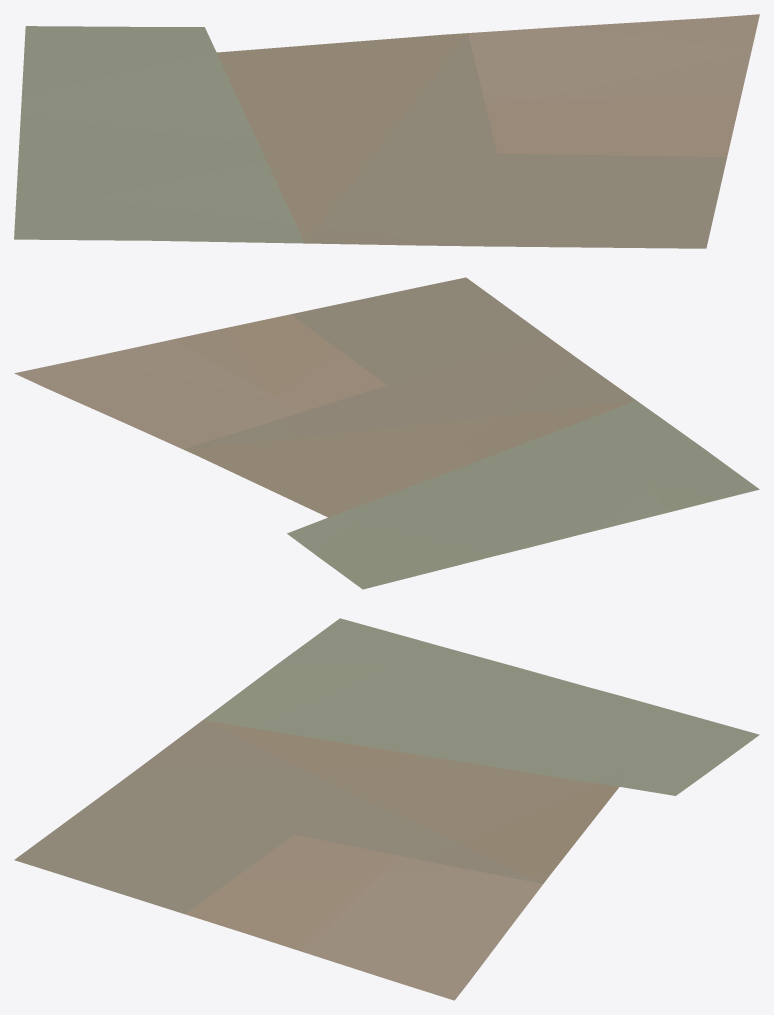
File: farm_5_7_soil.glb
3 views of the same model, one above another, from view 1: azimuth 30°, elevation 25°; view 2: azimuth 150°, elevation 25°; view 3: azimuth 270°, elevation 25° (orthographic). The views are drawn at different scales.
Parts seen in each view (by area): view 1: geometry_0; view 2: geometry_0; view 3: geometry_0.
Part boxes in pixels (x1,y1,x2,y2): geometry_0: [14, 14, 759, 248]; geometry_0: [14, 277, 759, 589]; geometry_0: [14, 618, 759, 1000].
Size of the model in its own units: 294 by 5.78 by 252.
